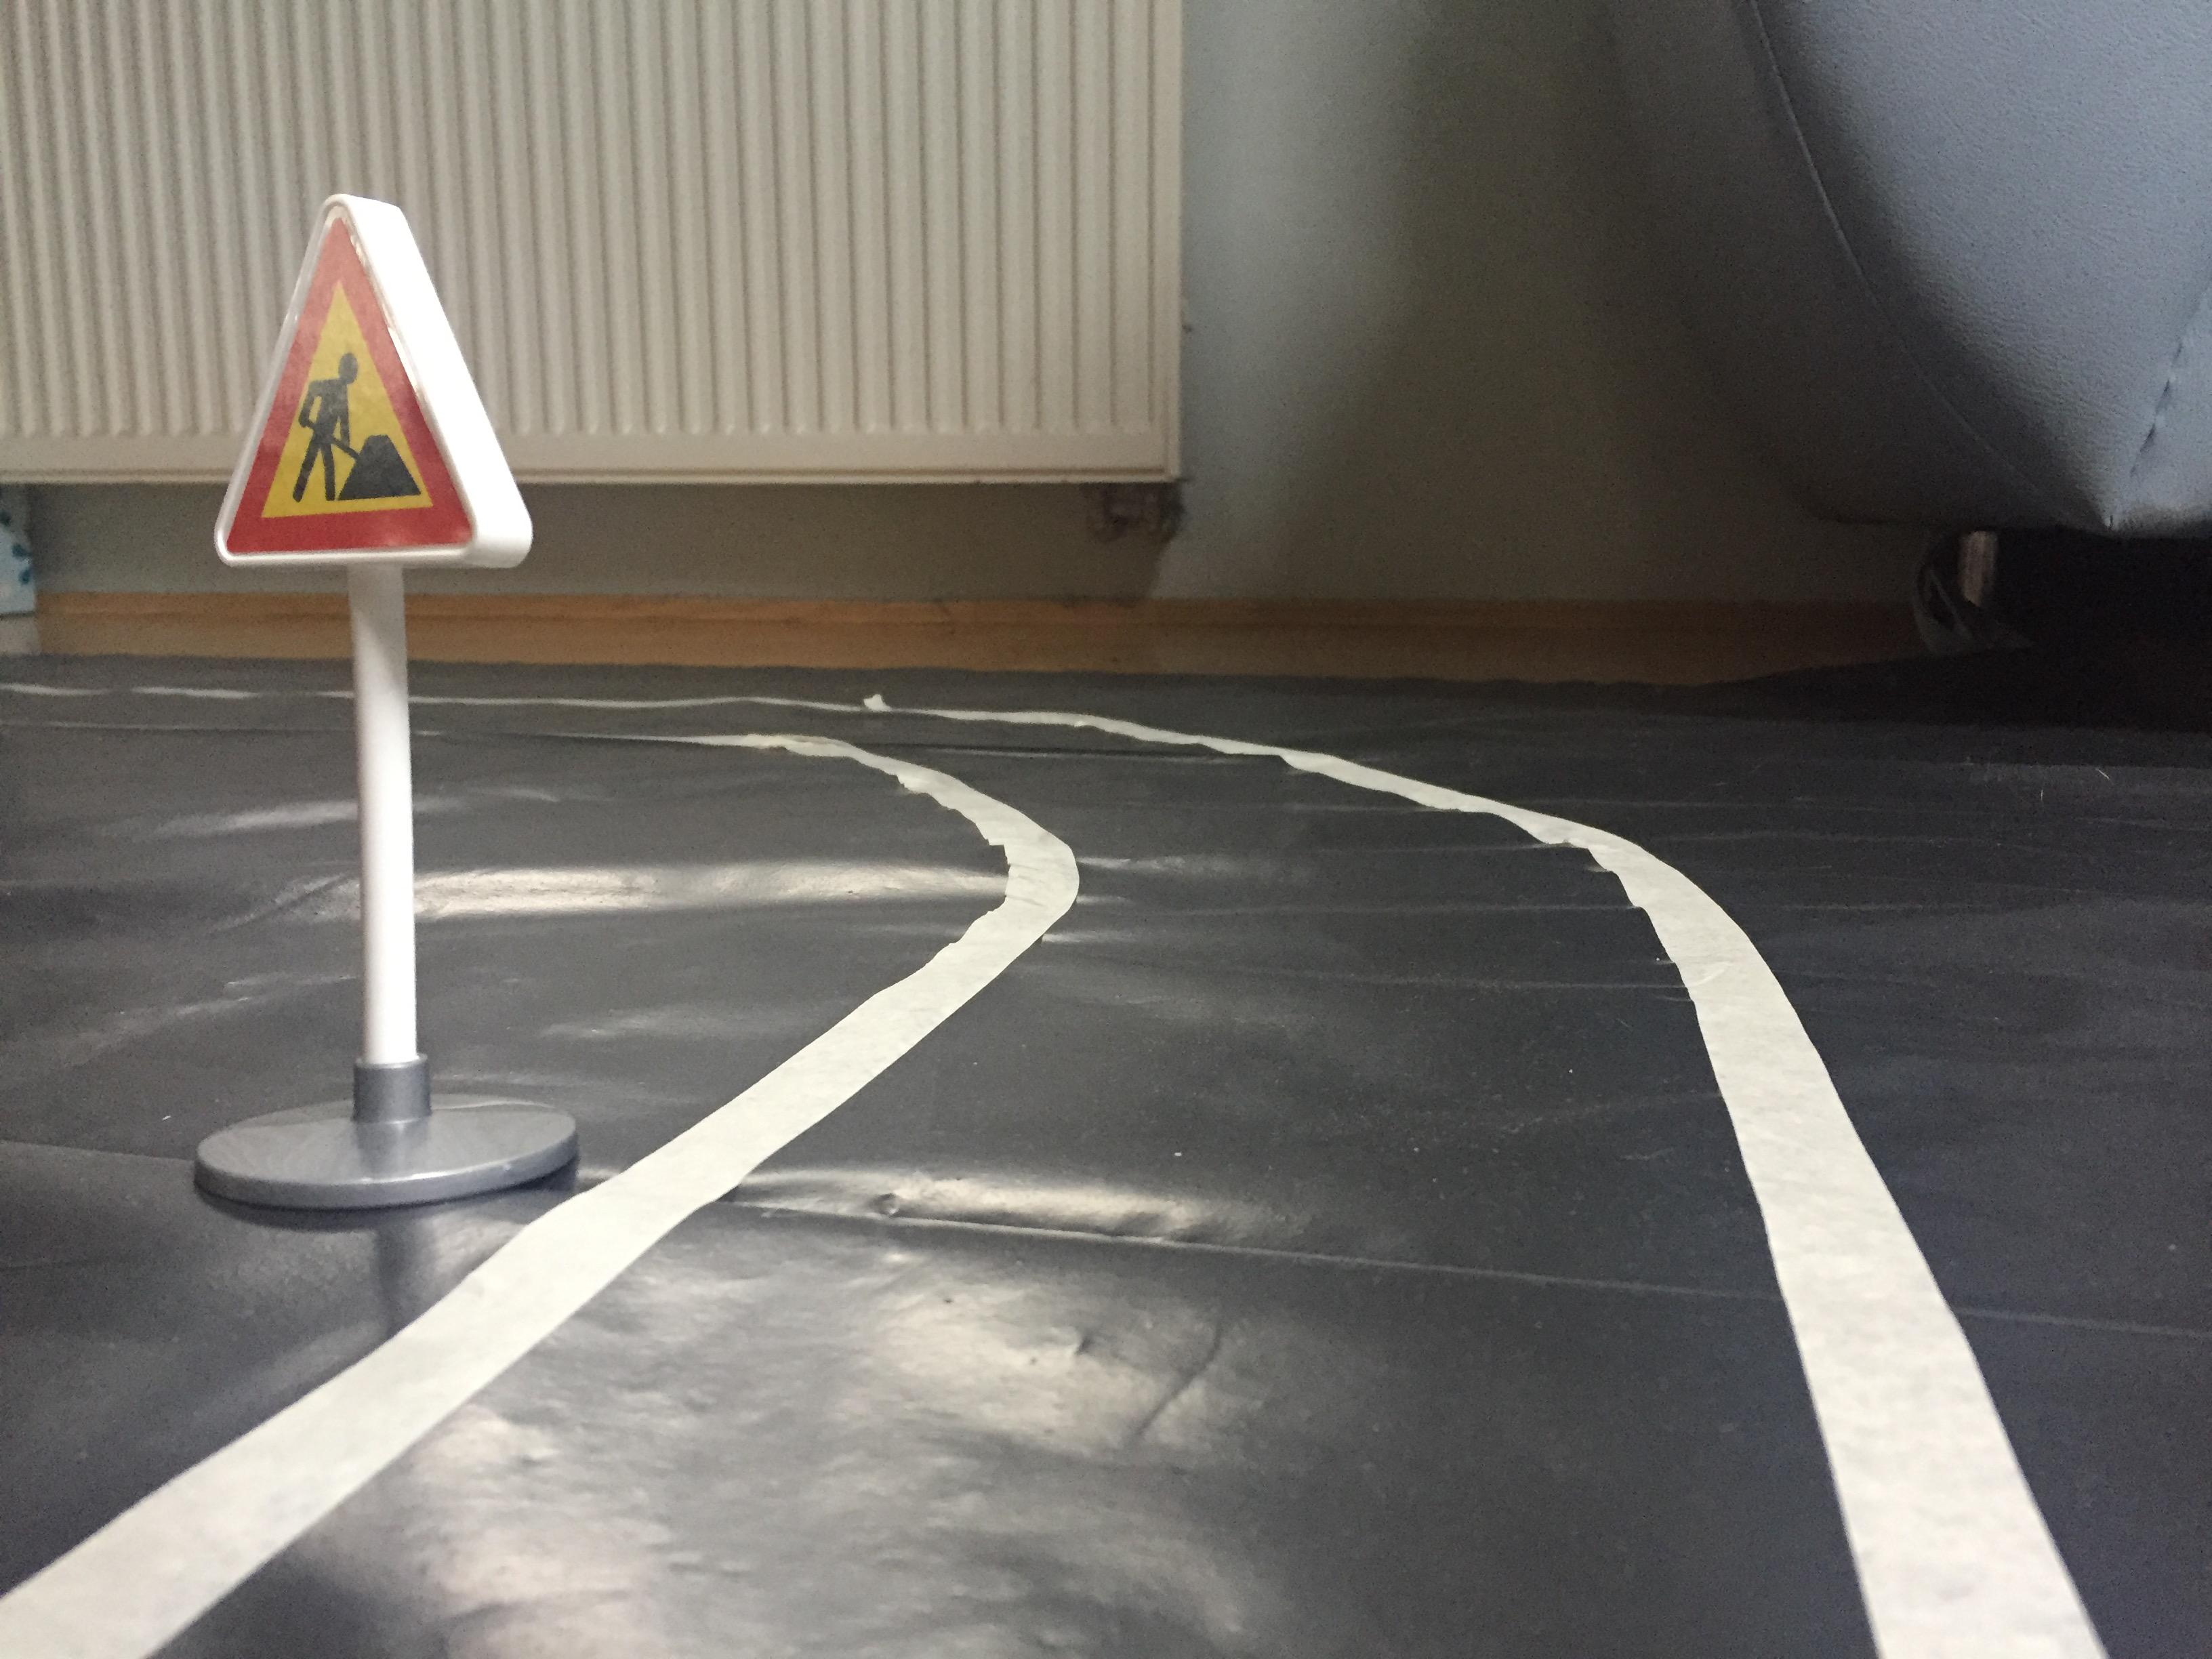work: (202, 179, 543, 594)
